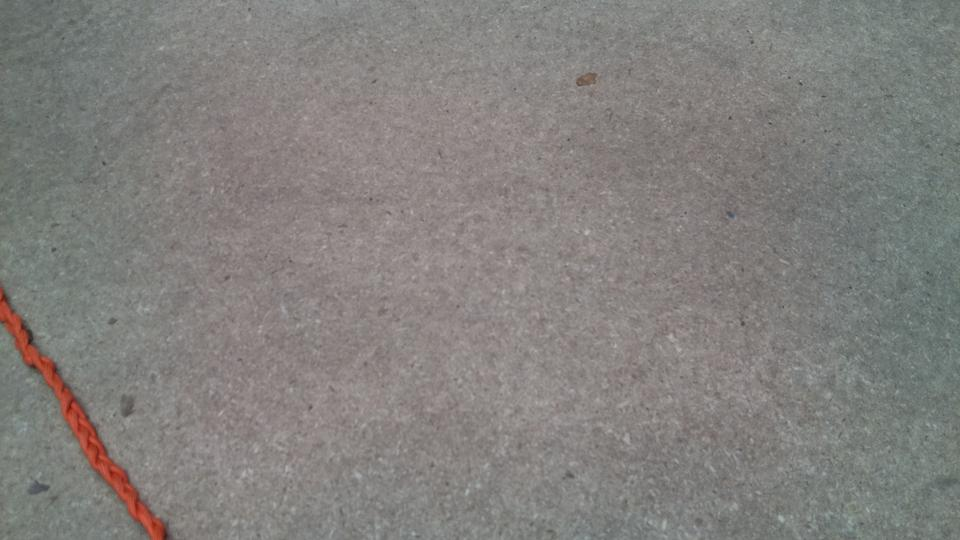rope: (1, 309, 151, 540)
